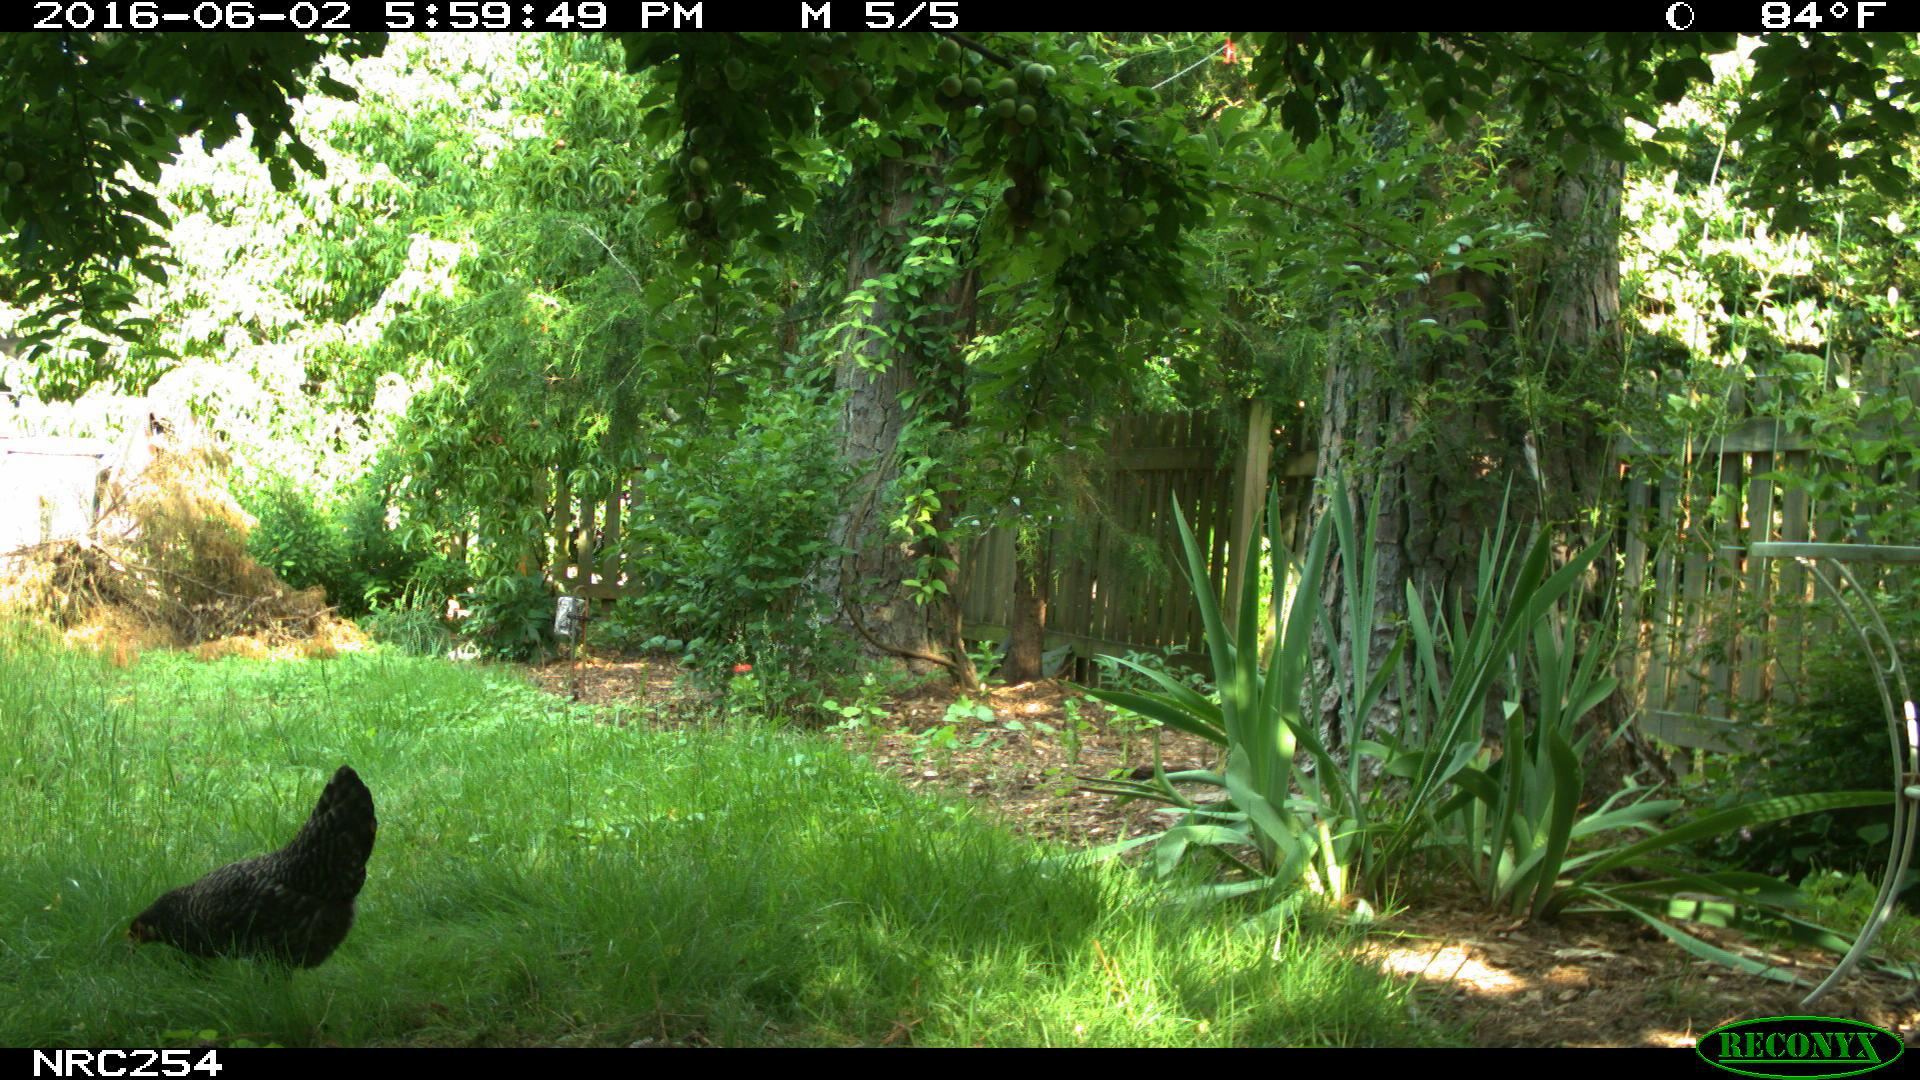Animal: (125, 765, 377, 976)
